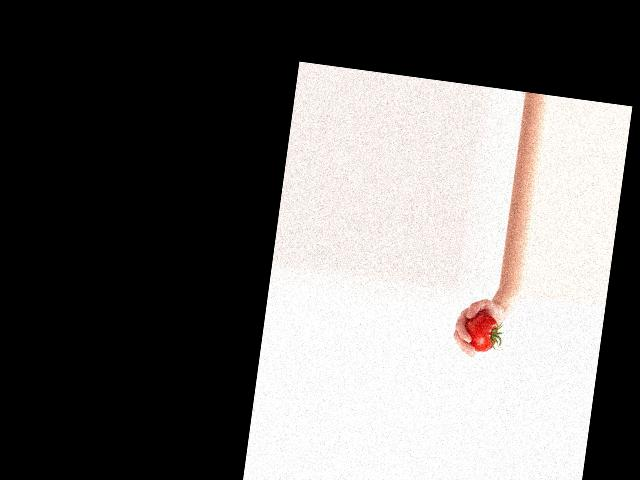tomato: (462, 311, 499, 353)
